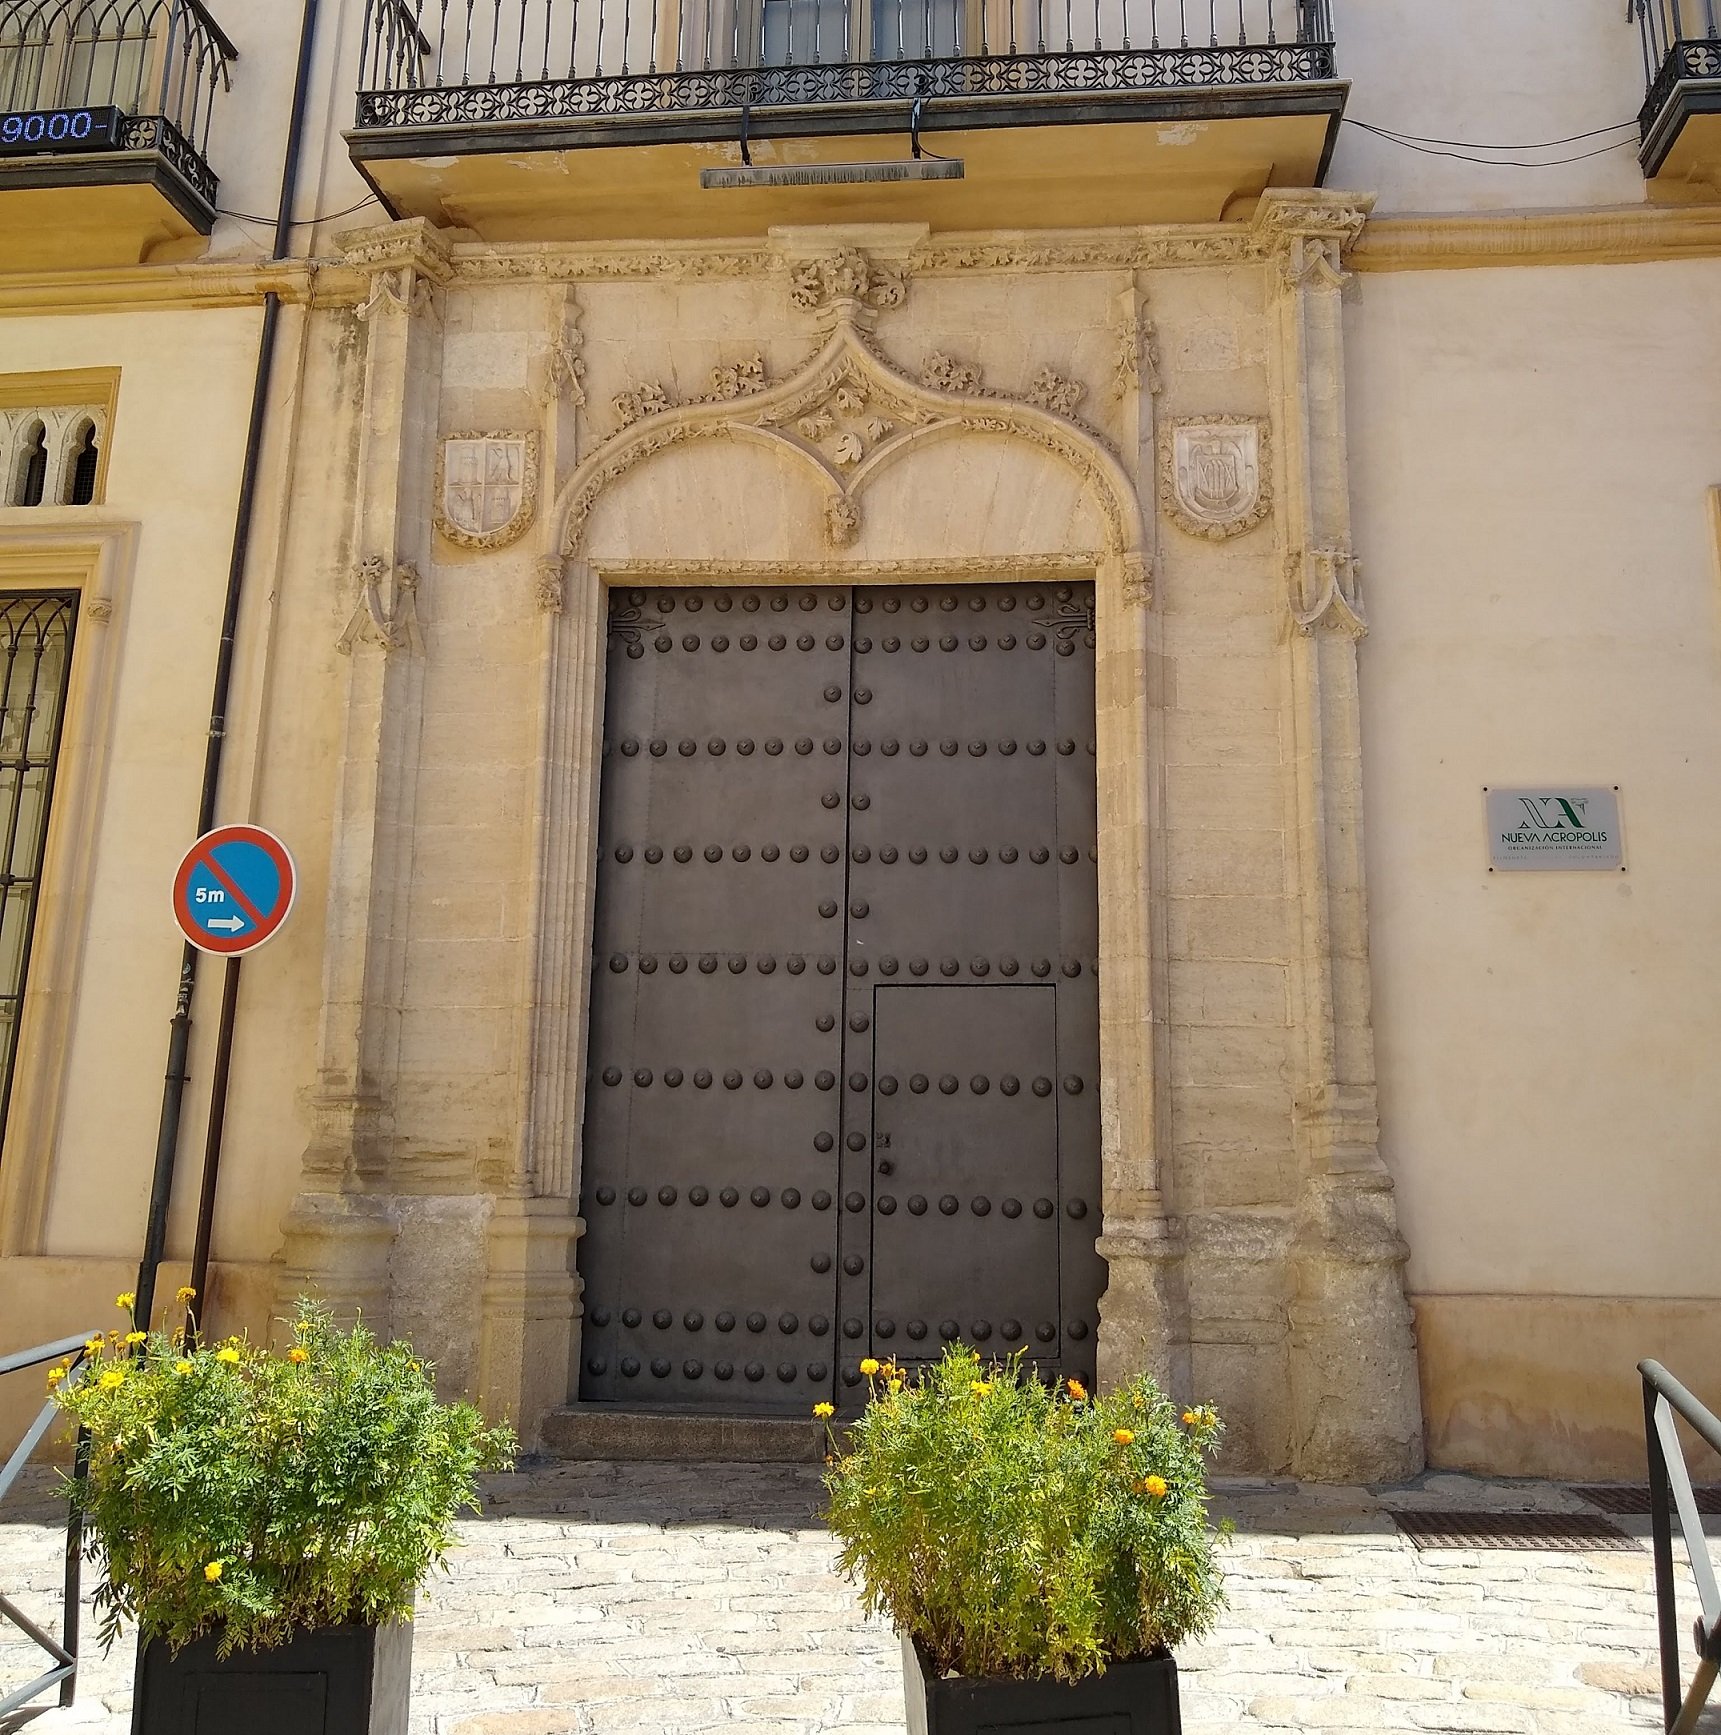arco-conopial: (550, 306, 1150, 545)
